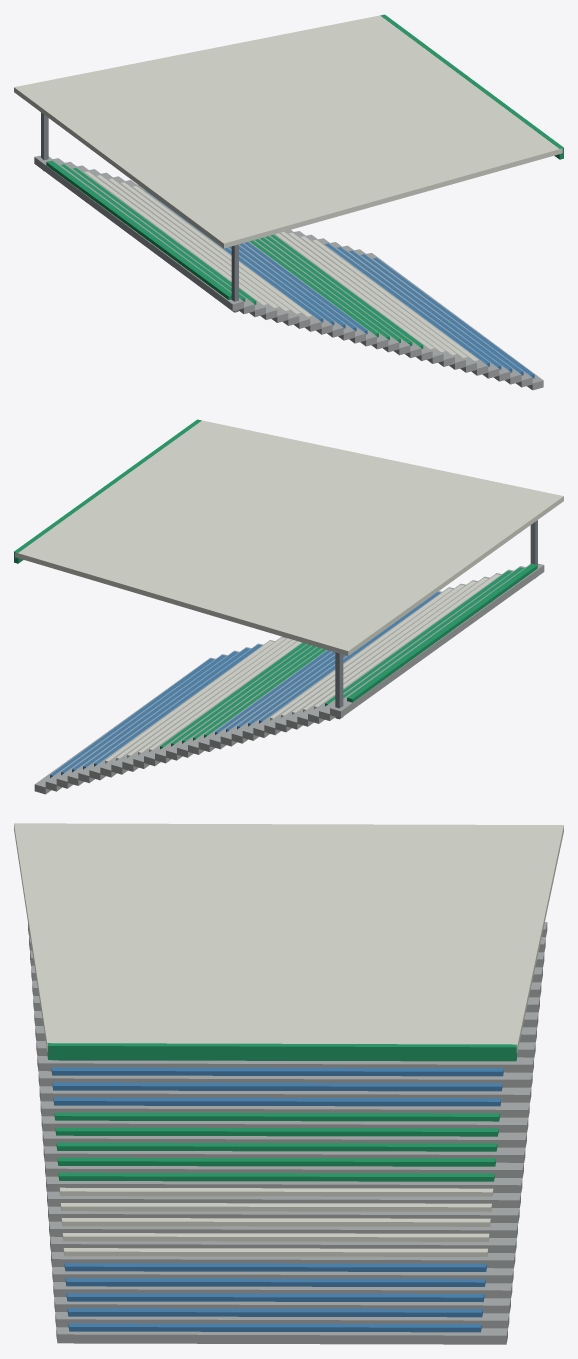
The model's file is interlagos-trecho1-setor-d.glb.
The picture shows the model from 3 angles, top to bottom: view 1: azimuth 30°, elevation 25°; view 2: azimuth 150°, elevation 25°; view 3: azimuth 270°, elevation 25°; orthographic projection. The views are drawn at different scales.
Visible parts, largest first — view 1: Arquibancada D; view 2: Arquibancada D; view 3: Arquibancada D.
Part boxes in pixels (box(x1,y1,x2,y2)): Arquibancada D: box(14, 14, 563, 390); Arquibancada D: box(14, 419, 563, 794); Arquibancada D: box(14, 823, 563, 1344).
Size of the model in its own units: 24.03 by 15.4 by 24.92.
